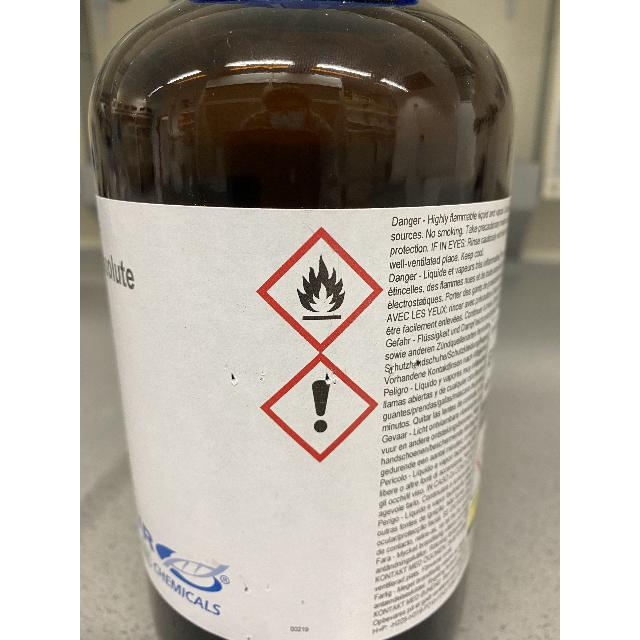flammable: (297, 254, 345, 320)
health-ozone layer hazard: (312, 380, 330, 432)
